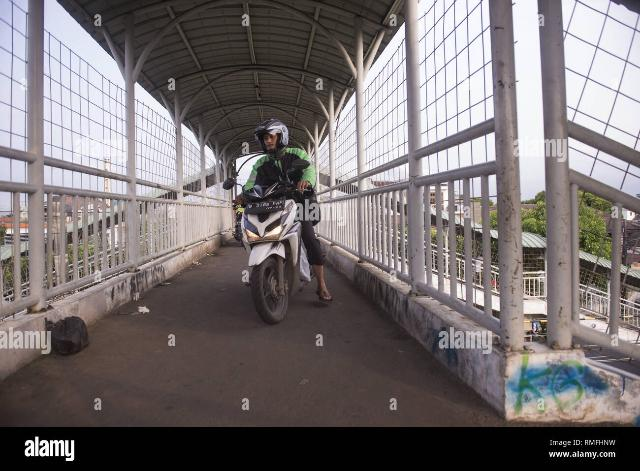helm: (255, 120, 292, 155)
motor: (221, 177, 328, 330)
